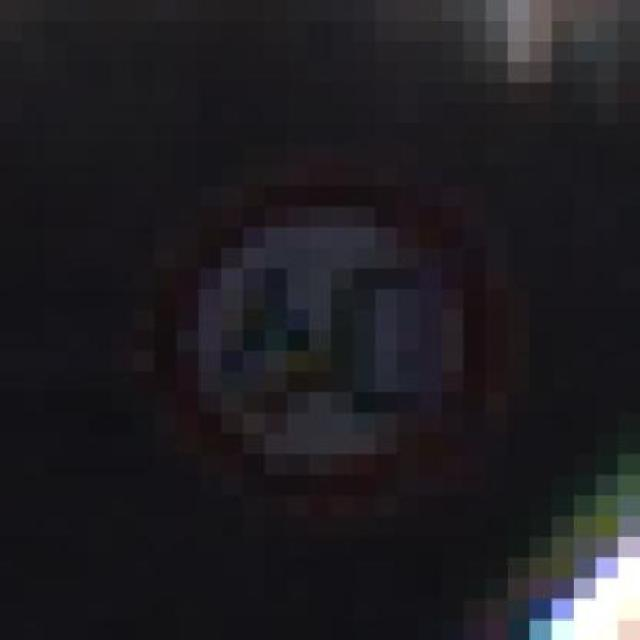forb_speed_over_60: (153, 186, 510, 511)
